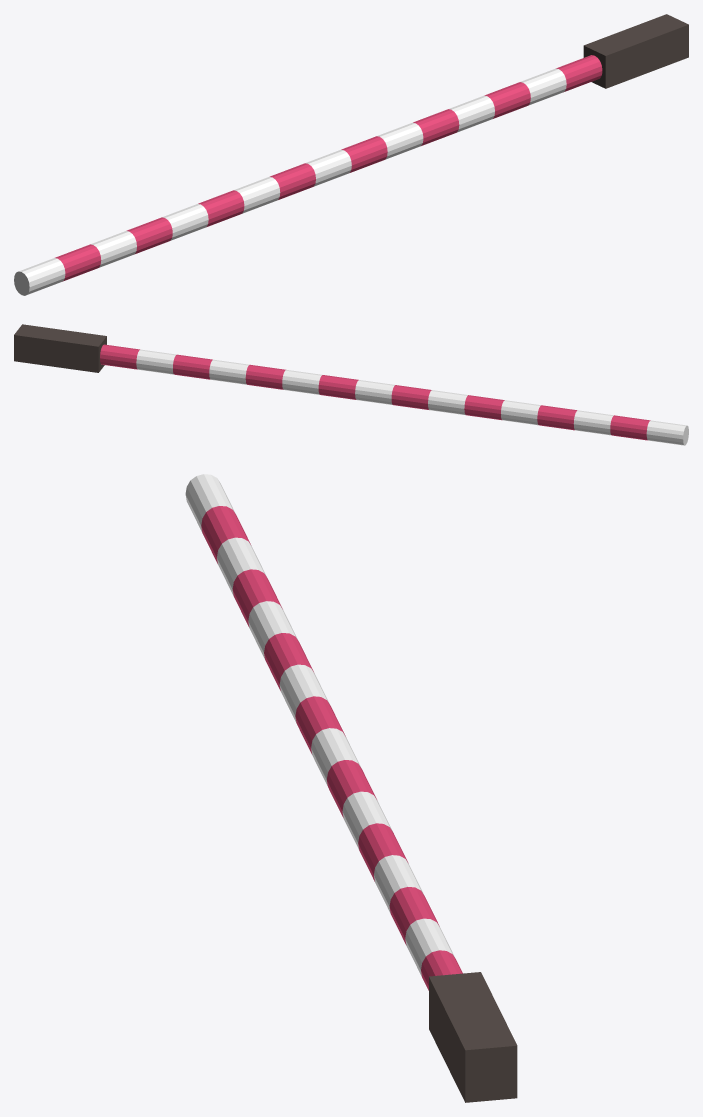
File: TrafficGate2.fbx
3 renders of one model, top to bottom at view 1: azimuth 30°, elevation 25°; view 2: azimuth 150°, elevation 25°; view 3: azimuth 270°, elevation 25°, orthographic. The views are drawn at different scales.
Parts seen in each view (by area): view 1: TrafficGate2; view 2: TrafficGate2; view 3: TrafficGate2.
Boxes of the visible parts, box(x1,y1,x2,y2) form: TrafficGate2: box(14, 14, 688, 295); TrafficGate2: box(14, 324, 688, 445); TrafficGate2: box(185, 474, 517, 1102).
Bounding box in the file's own units: 4.78 × 0.2 × 1.14.
